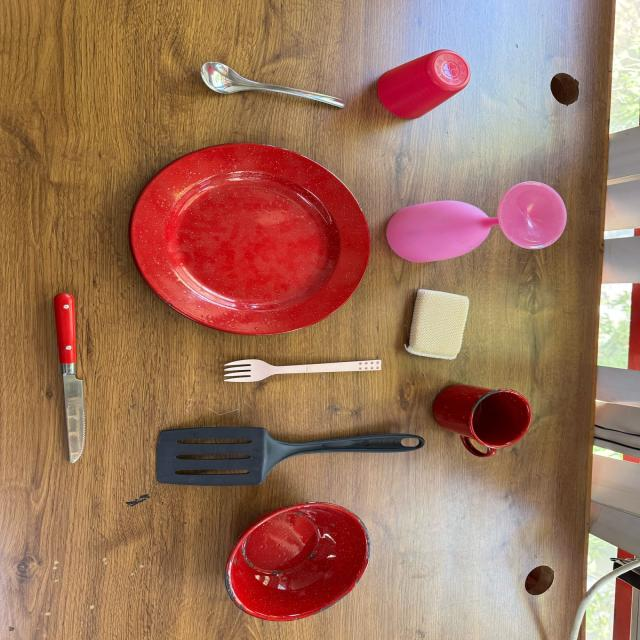cup: (432, 383, 536, 461)
fork: (219, 356, 385, 386)
glass: (376, 48, 474, 120)
knife: (52, 294, 88, 464)
plate: (130, 139, 372, 341)
spatula: (156, 425, 420, 486)
sponge: (404, 287, 474, 364)
spoon: (198, 60, 347, 110)
tazon: (222, 502, 374, 622)
wineglass: (390, 180, 568, 261)
